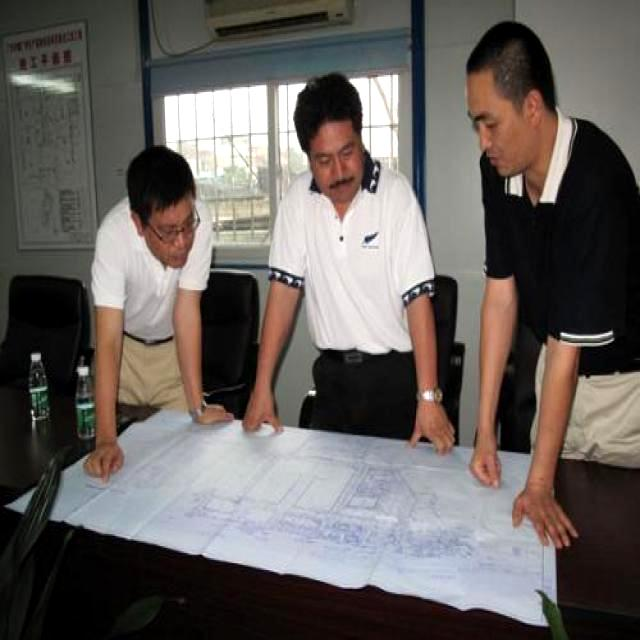no_head_wear: (468, 22, 556, 113), (293, 75, 361, 154), (128, 147, 195, 222)
person: (466, 20, 639, 551), (243, 77, 453, 451), (86, 145, 233, 478)
